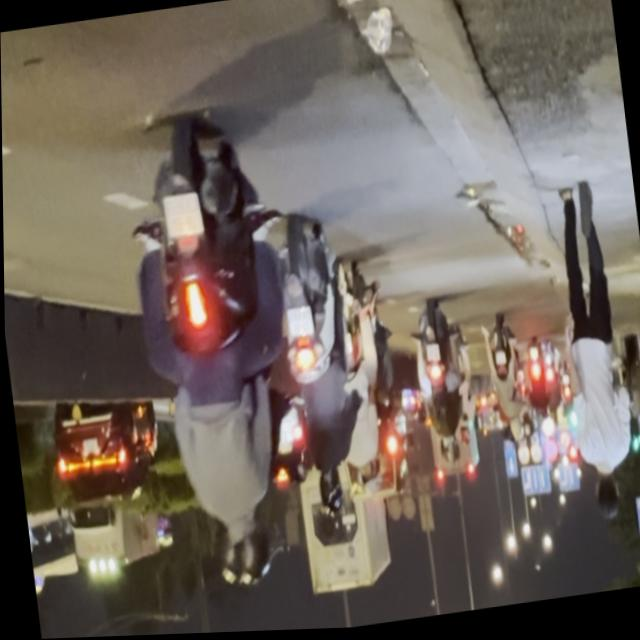helmet: (228, 515, 271, 591), (205, 524, 245, 594), (314, 471, 342, 518)
licenseplate: (110, 99, 317, 608), (265, 213, 371, 527)
nohelmet: (160, 193, 202, 242), (284, 310, 312, 342)
